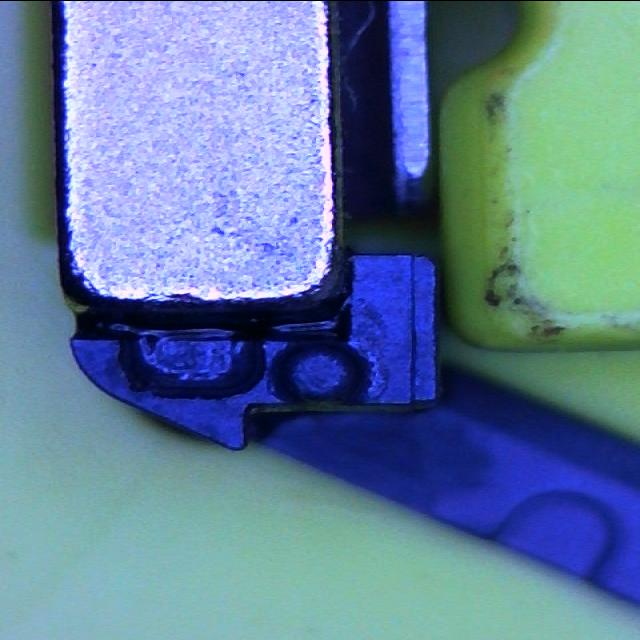lacking: (116, 323, 266, 398)
